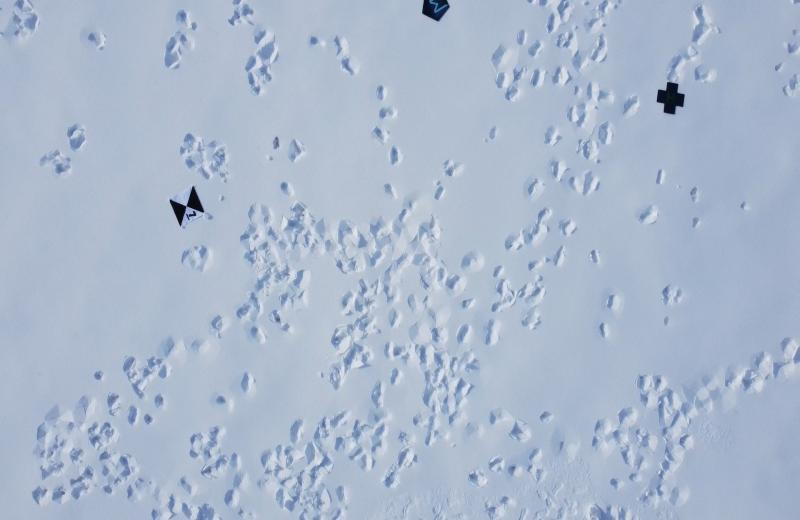Cross: (655, 81, 688, 118)
Pentagon: (419, 0, 450, 23)
